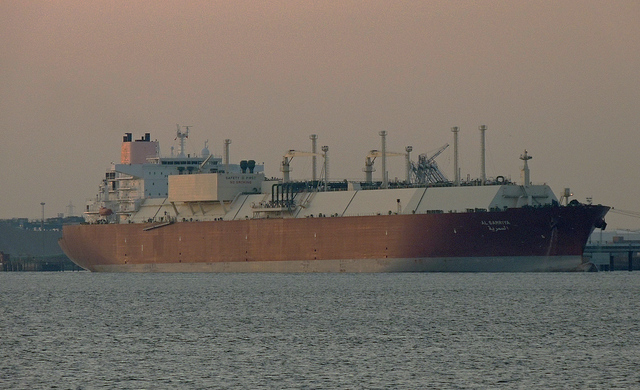LNG_ship: (57, 124, 605, 271)
